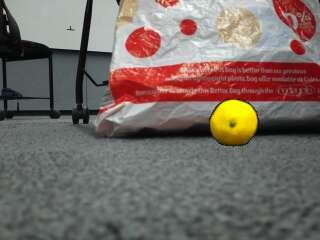lemon: (210, 100, 258, 146)
